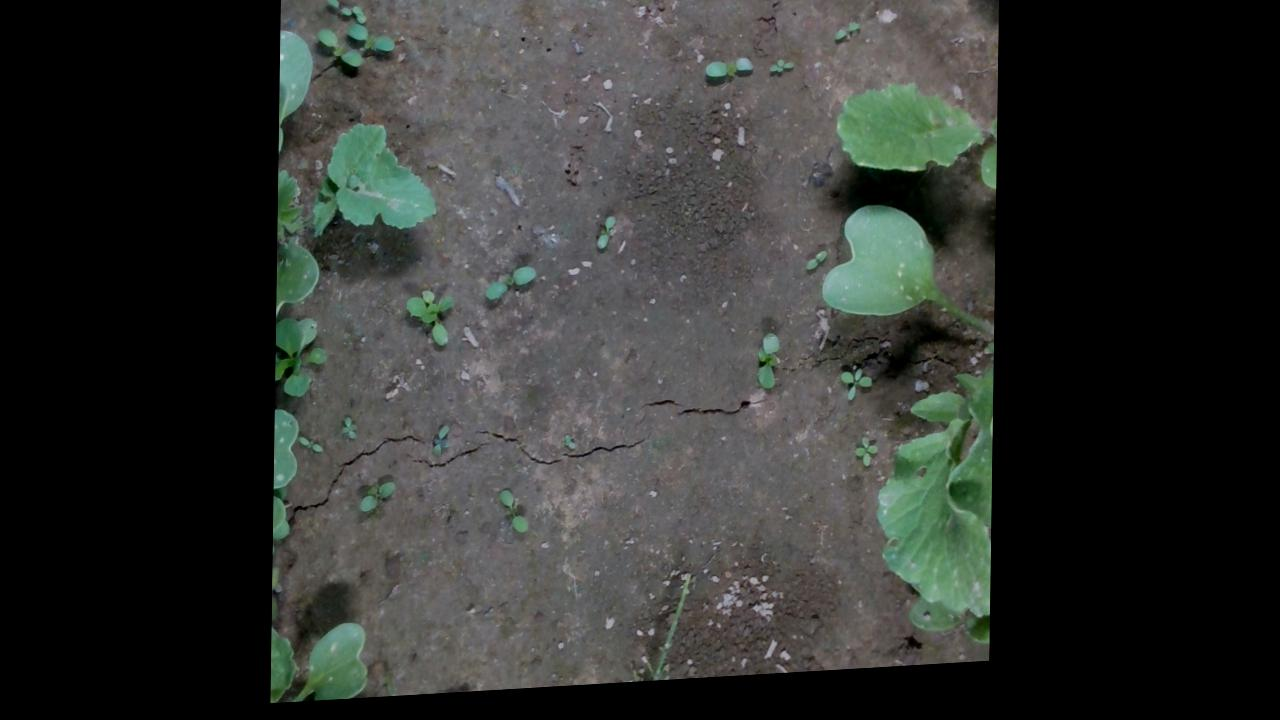weed: (484, 272, 538, 306), (758, 341, 784, 398), (501, 493, 531, 540), (361, 484, 399, 517), (843, 377, 875, 413), (706, 64, 757, 86), (857, 444, 881, 478), (597, 221, 620, 256), (434, 428, 452, 462), (298, 438, 328, 458), (327, 0, 354, 21), (833, 31, 862, 50), (805, 258, 829, 279), (342, 419, 362, 444), (769, 66, 796, 83)
